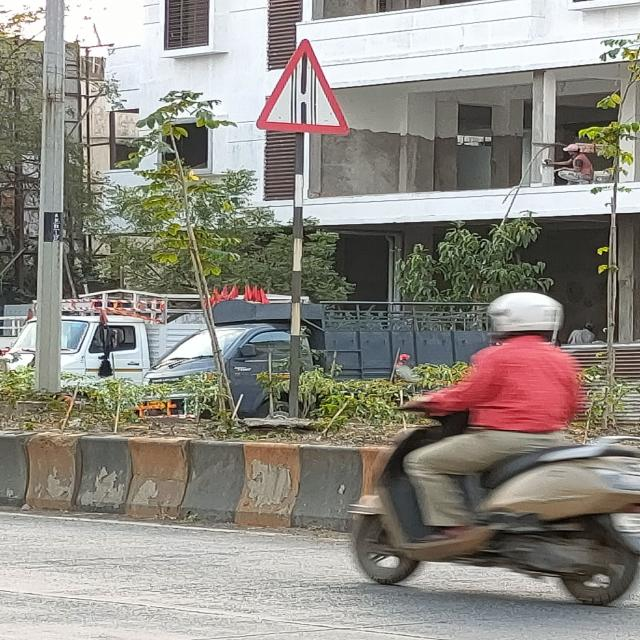GAP_IN_MEDIAN: (255, 36, 351, 138)
